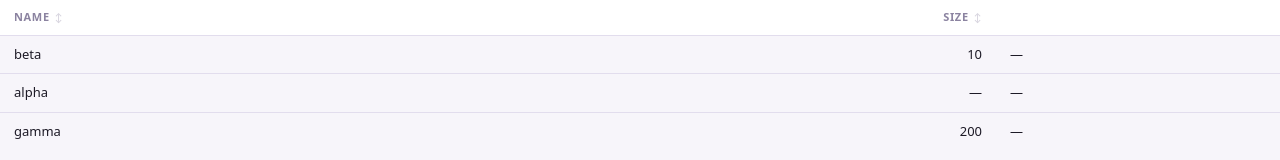
Test: DataTable › tells assistive technology which column is sorted, and which way
Click the button "Name ↕".
click(32, 16)  # box [14,9,519,26]
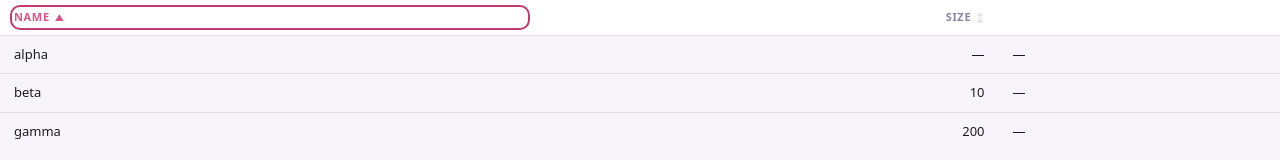
Result: the column heading "Name ▲" has attribute aria-sort="ascending" at [0,0,540,35]
Click the button "Name ▲".
click(32, 16)  # box [14,9,526,26]
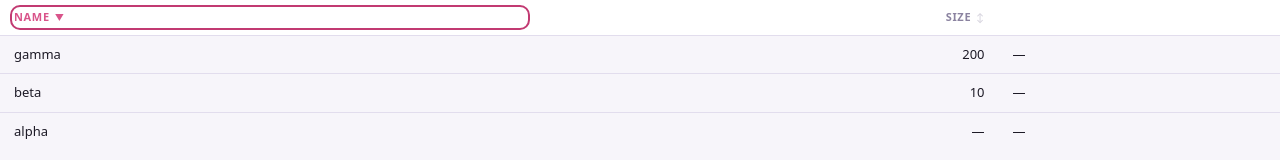
Result: the column heading "Name ▼" has attribute aria-sort="descending" at [0,0,540,35]
